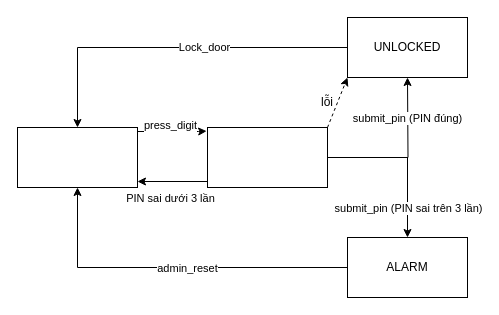
Image size: 499x315. Some labels were removed from this diagram. The centre of each missing label's shape, as x and y in pixels:
LOCKED: the point at 77,157
UNLOCKING: the point at 267,157
